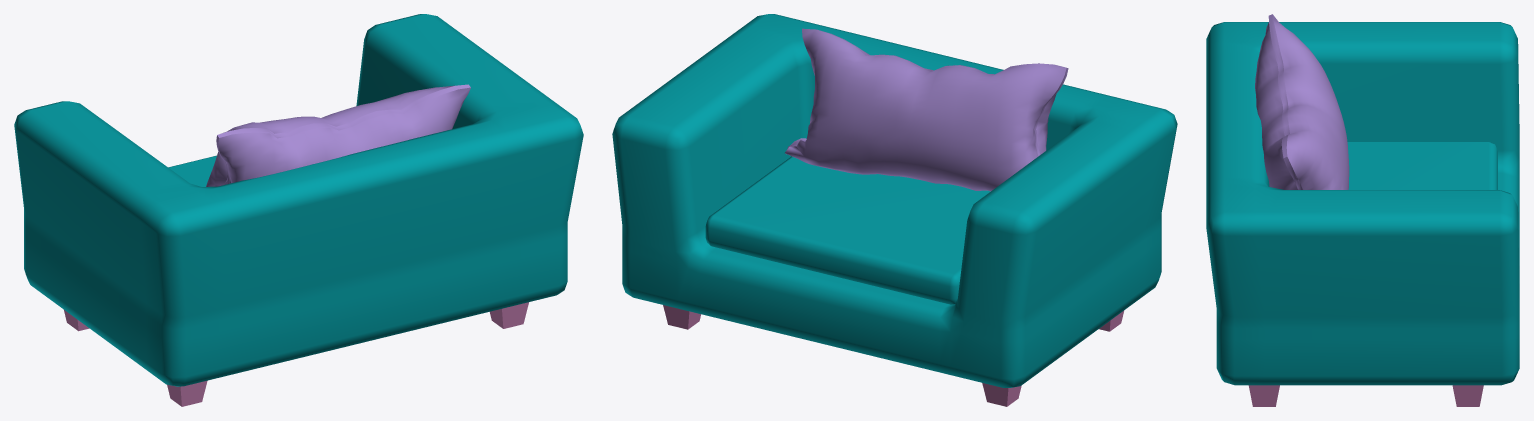
Rendered from Loveseat.fbx.
3 renders of one model, left to right at view 1: azimuth 30°, elevation 25°; view 2: azimuth 150°, elevation 25°; view 3: azimuth 270°, elevation 25°, orthographic.
Parts seen in each view (by area): view 1: Loveseat; view 2: Loveseat; view 3: Loveseat.
Part boxes in pixels (box(x1,y1,x2,y2)): Loveseat: box(14, 14, 583, 406); Loveseat: box(612, 14, 1177, 406); Loveseat: box(1206, 14, 1519, 406).
Size of the model in its own units: 1847 by 1056 by 1194.
